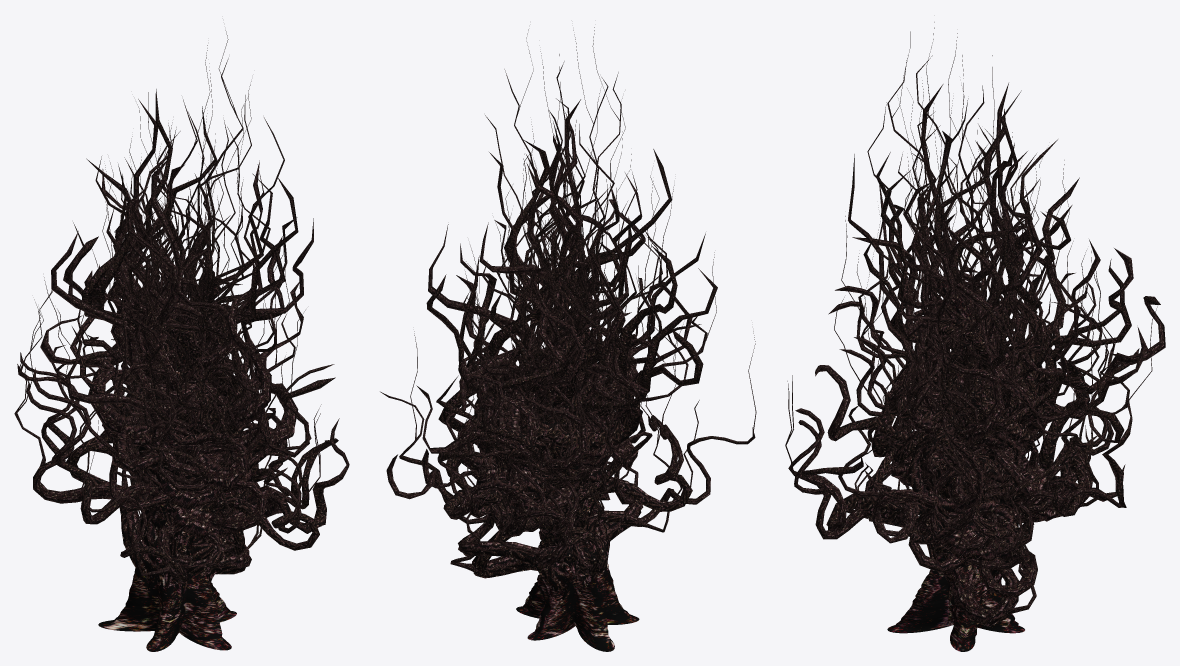
The model's file is tree6.fbx.
3 renders of one model, left to right at view 1: azimuth 30°, elevation 25°; view 2: azimuth 150°, elevation 25°; view 3: azimuth 270°, elevation 25°, orthographic. The views are drawn at different scales.
Visible parts, largest first — view 1: bark13_0; view 2: bark13_0; view 3: bark13_0.
Part boxes in pixels (x1,y1,x2,y2): bark13_0: [14, 30, 349, 651]; bark13_0: [380, 27, 756, 651]; bark13_0: [785, 22, 1165, 651].
Size of the model in its own units: 876 by 1594 by 884.
1 material, 1 textured.
